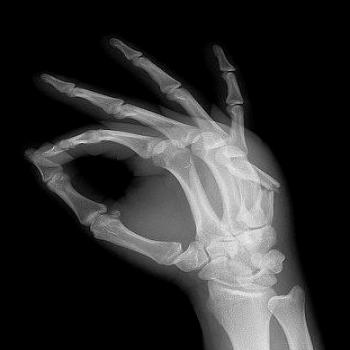Fracture: (260, 171, 284, 201)
